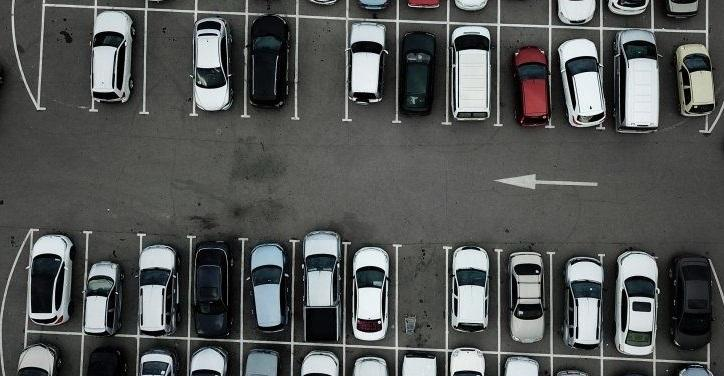occupied: (26, 230, 87, 334), (83, 233, 141, 336), (93, 7, 147, 113), (292, 241, 346, 346), (189, 237, 243, 341), (194, 11, 247, 116), (344, 243, 397, 348), (138, 235, 191, 339), (602, 255, 654, 361), (601, 28, 655, 130), (653, 30, 707, 132), (245, 14, 297, 119), (447, 248, 499, 353), (499, 250, 551, 355), (242, 239, 294, 343), (447, 23, 499, 125), (498, 25, 550, 127), (347, 19, 398, 122), (397, 21, 448, 124), (552, 253, 602, 358), (550, 27, 601, 129)
vacant: (39, 5, 96, 111), (655, 258, 709, 363), (144, 9, 196, 115), (396, 246, 447, 351), (296, 17, 347, 120)
